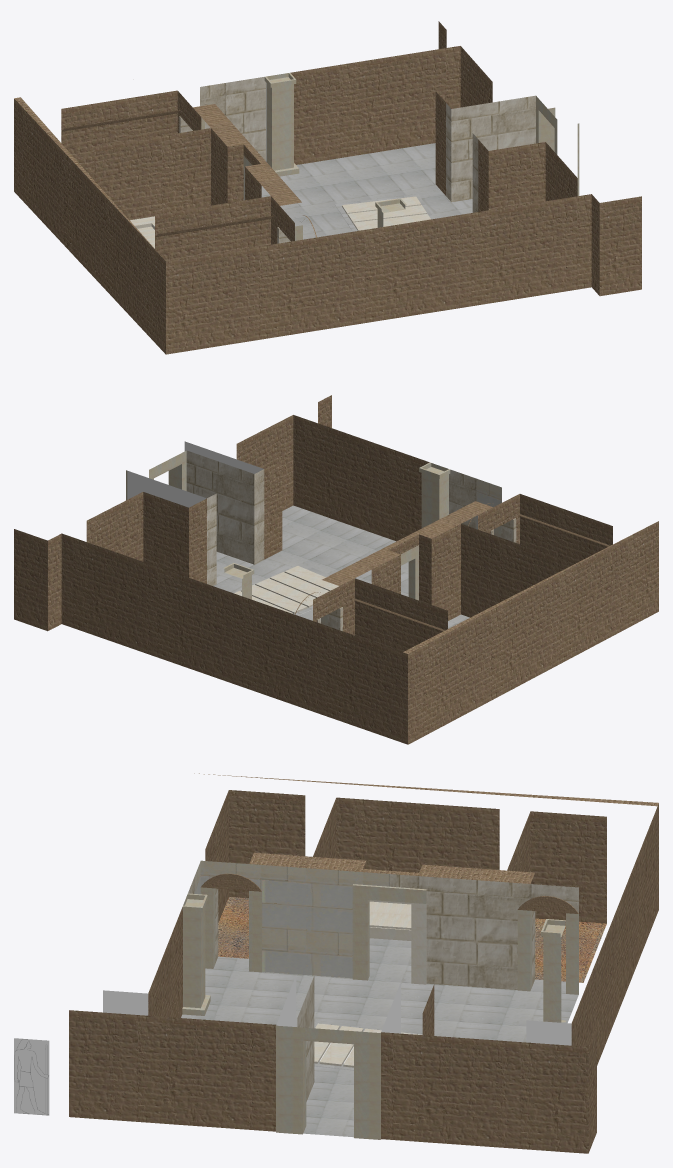
Rendered from Sethnakht.glb.
The picture shows the model from 3 angles, top to bottom: view 1: azimuth 30°, elevation 25°; view 2: azimuth 150°, elevation 25°; view 3: azimuth 270°, elevation 25°; orthographic projection. The views are drawn at different scales.
Parts seen in each view (by area): view 1: Mesh3 Model, Mesh1 Component_1_1 Model; view 2: Mesh3 Model, Mesh1 Component_1_1 Model; view 3: Mesh3 Model, Mesh4 Model, Mesh1 Component_1_1 Model, Mesh2 Component_4_1 Model.
Boxes of the visible parts, <box> form: Mesh3 Model: <box>14,21,641,354</box>; Mesh1 Component_1_1 Model: <box>264,73,299,176</box>; Mesh3 Model: <box>14,395,658,744</box>; Mesh1 Component_1_1 Model: <box>223,563,254,599</box>; Mesh3 Model: <box>69,773,658,1153</box>; Mesh4 Model: <box>14,1038,49,1115</box>; Mesh1 Component_1_1 Model: <box>541,919,565,1022</box>; Mesh2 Component_4_1 Model: <box>369,900,411,929</box>.
Size of the model in its own units: 12.52 by 2.3 by 12.46.
13 materials, 12 textured.
